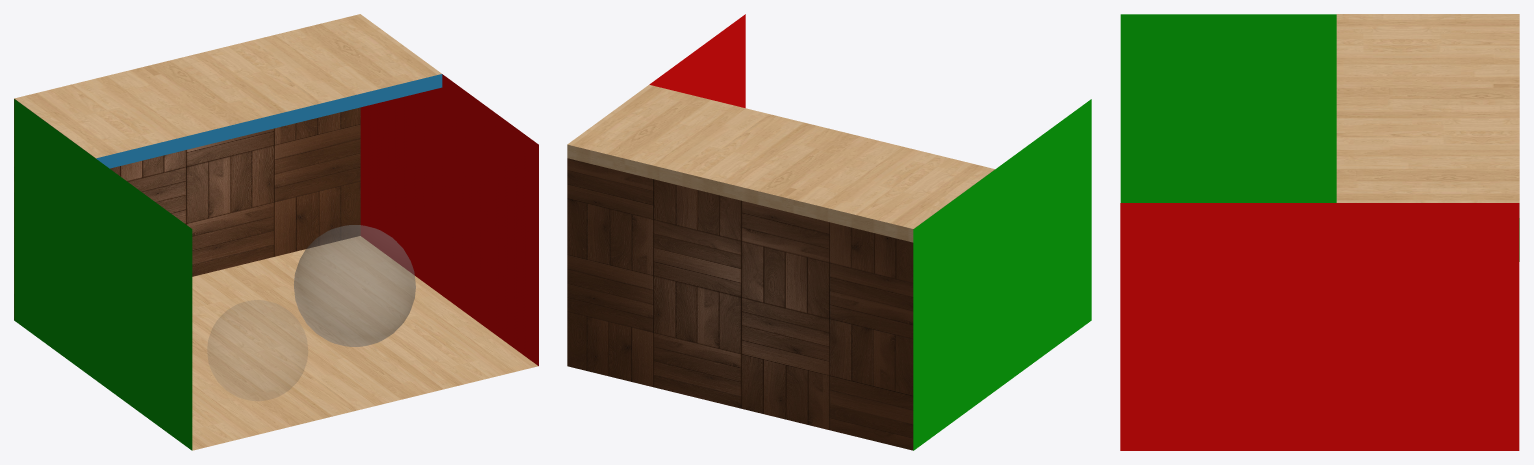
The model's file is Transparent_Refractive.obj.
3 renders of one model, left to right at view 1: azimuth 30°, elevation 25°; view 2: azimuth 150°, elevation 25°; view 3: azimuth 270°, elevation 25°, orthographic. The views are drawn at different scales.
Parts seen in each view (by area): view 1: Plane006, Plane004, Plane005, Box002, Plane007, Sphere2Mesh001, Sphere2Mesh; view 2: Plane007, Plane004, Box002, Plane005; view 3: Plane005, Plane004, Box002.
Boxes of the visible parts, x1,y1,x2,y2 form: Plane006: (192, 236, 538, 450); Plane004: (14, 99, 192, 450); Plane005: (360, 74, 538, 365); Box002: (14, 14, 442, 168); Plane007: (14, 99, 360, 319); Sphere2Mesh001: (294, 225, 415, 346); Sphere2Mesh: (207, 300, 307, 400); Plane007: (567, 158, 913, 450); Plane004: (913, 99, 1091, 450); Box002: (567, 84, 994, 242); Plane005: (649, 14, 745, 107); Plane005: (1120, 203, 1519, 450); Plane004: (1120, 14, 1519, 261); Box002: (1336, 14, 1519, 217).
Size of the model in its own units: 242 by 148 by 216.
Materials: 8 (6 with a texture image).
